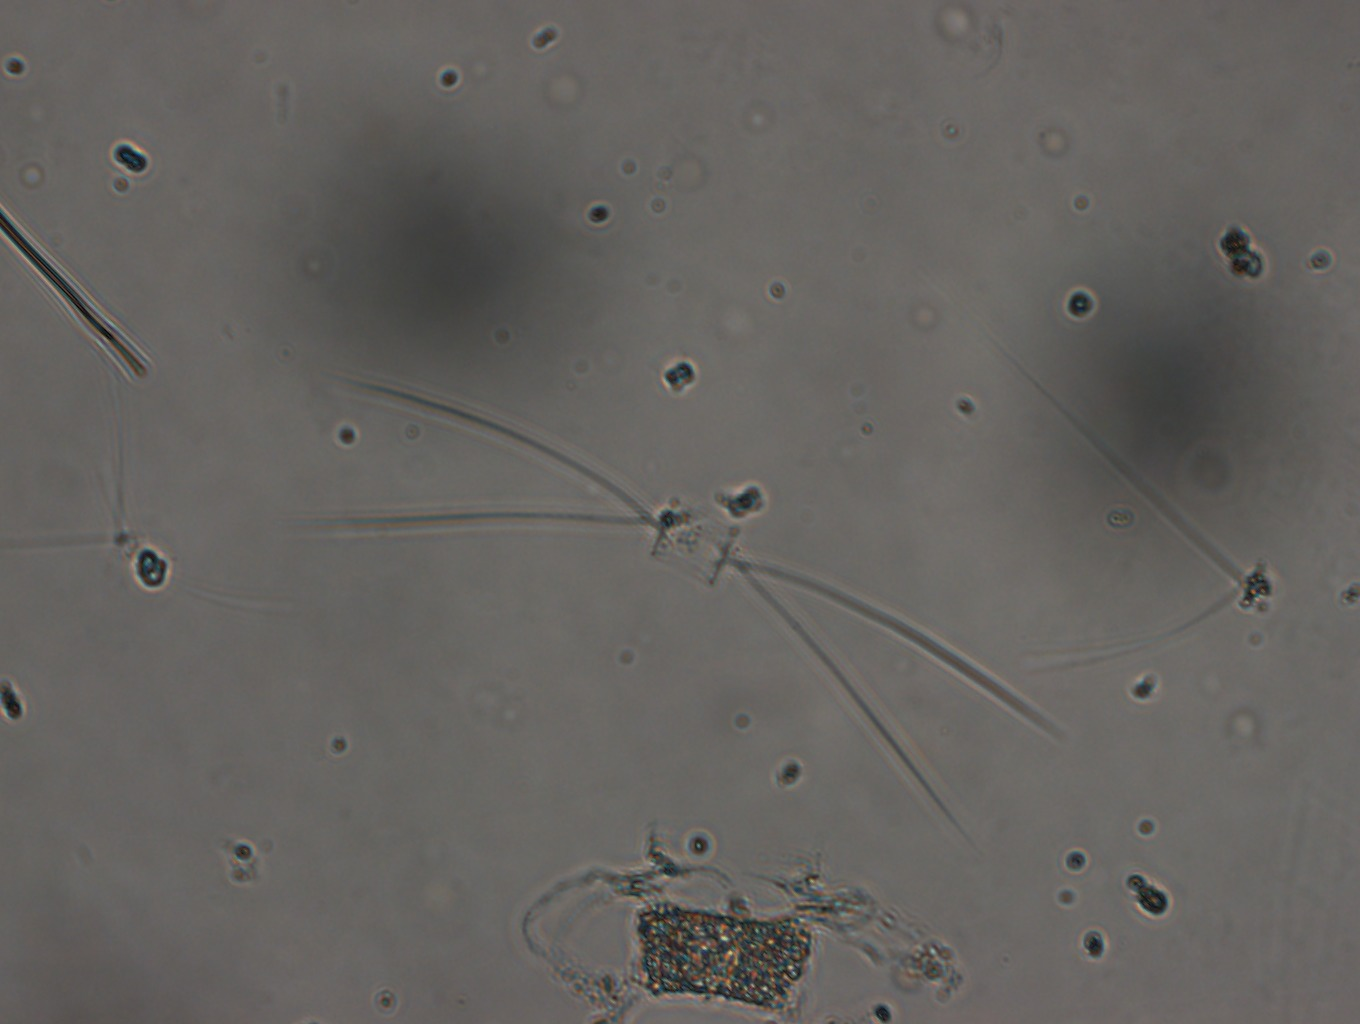chaetoceros: (344, 364, 1037, 790)
